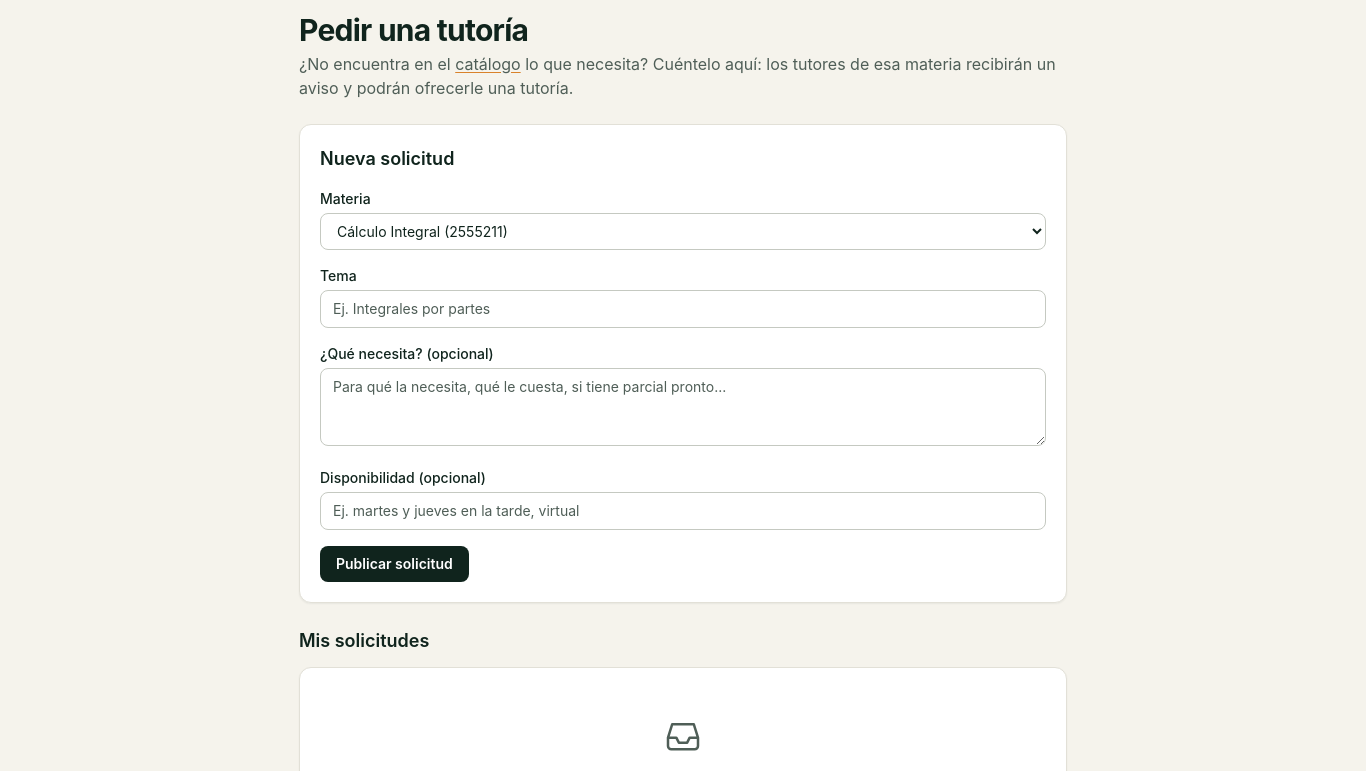
Test: Pedir una tutoría › publica la solicitud con la materia del enlace del catálogo y la agrega a la lista
Expected: the dropdown labelled "Materia" shows "Cálculo Integral (2555211)", left=320, top=213, right=1046, bottom=250
In the field labelled "Tema": (683,309) left=320, top=290, right=1046, bottom=328, type " Integrales por partes "
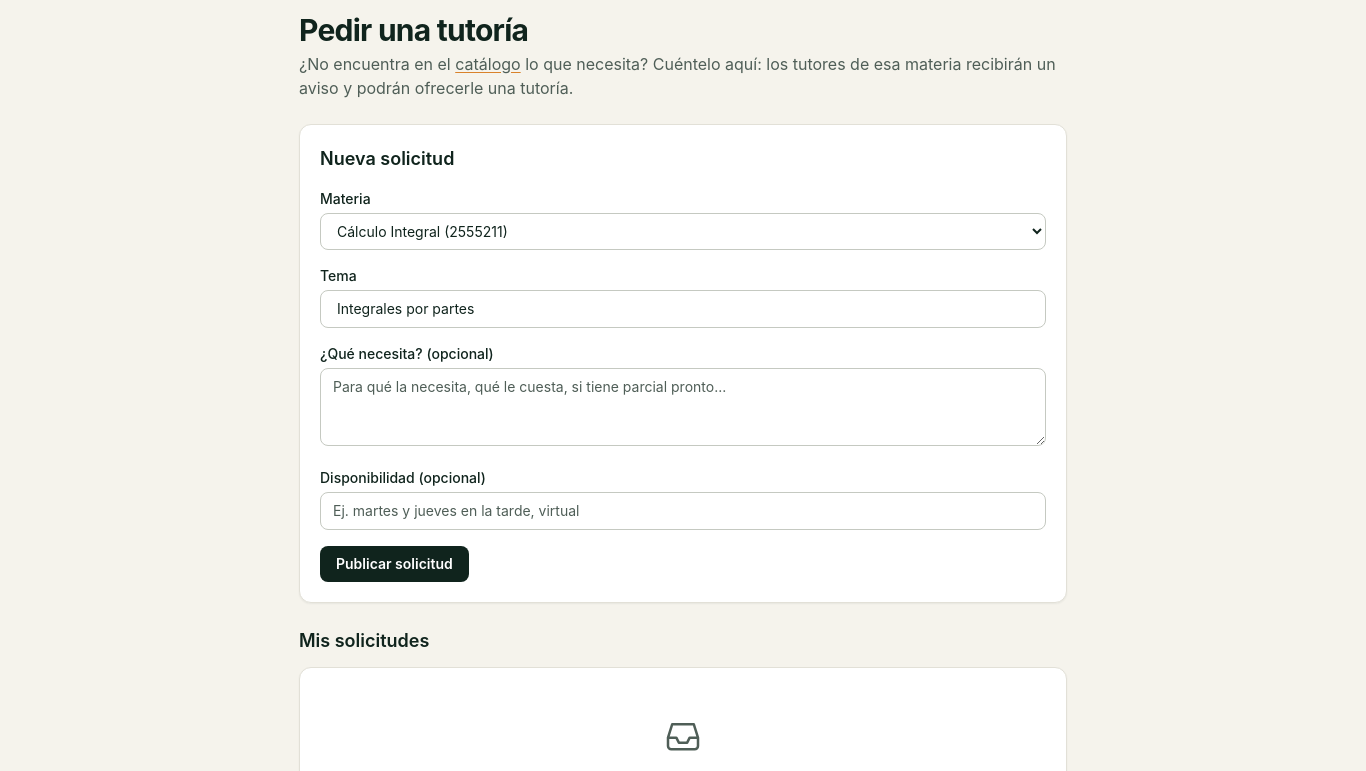
In the field labelled "Disponibilidad (opcional)": (683,511) left=320, top=492, right=1046, bottom=530, type "martes en la tarde"
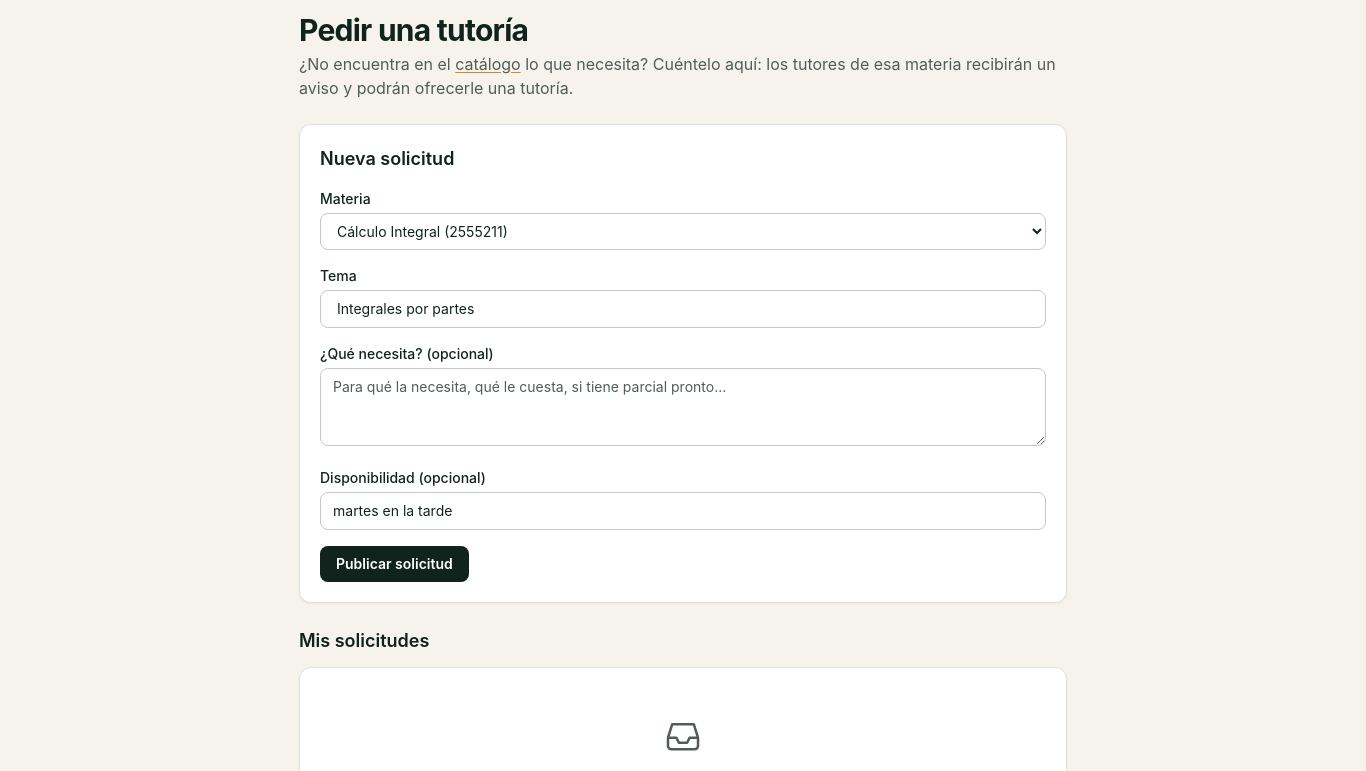
Click the button "Publicar solicitud": (394,564) left=320, top=546, right=469, bottom=582
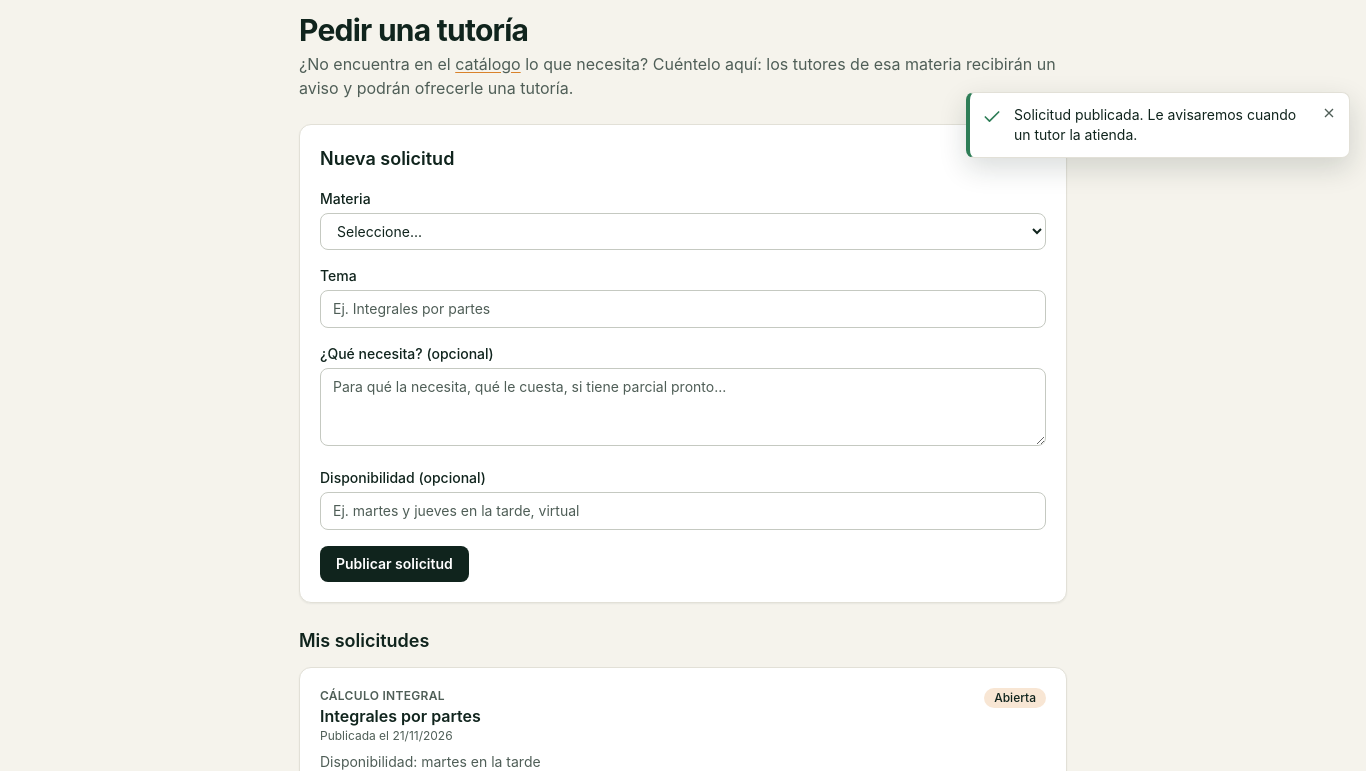
Expected: the text "Abierta" is shown, left=984, top=688, right=1046, bottom=708
